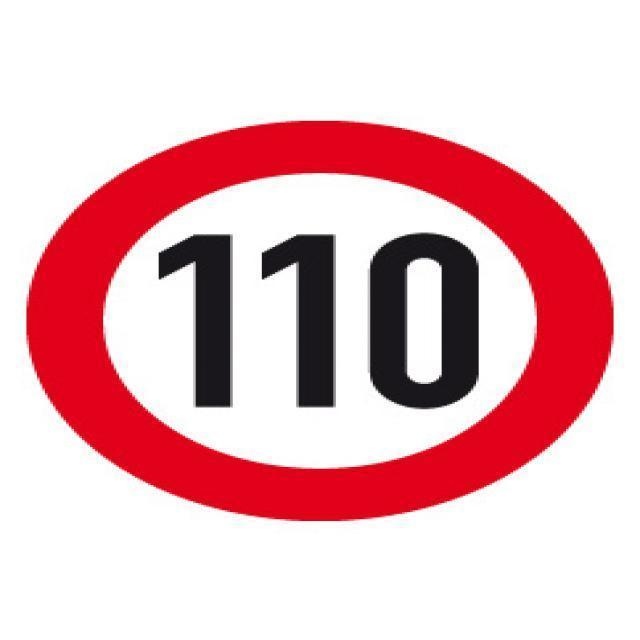speed limit 110: (25, 122, 614, 525)
